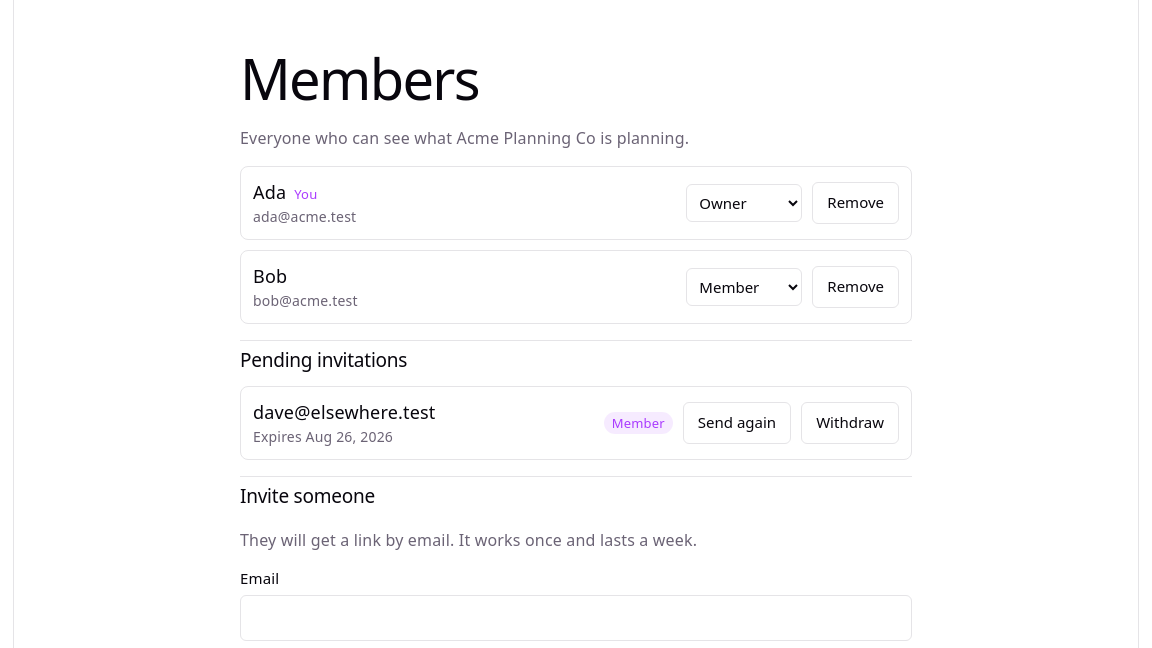
Test: MembersPage › lets the question be answered no
Expected: the text "Ada" is shown, [253,180,286,204]
Click the button with aria-label "Remove Bob" at (856, 287), box [812,266,899,308]
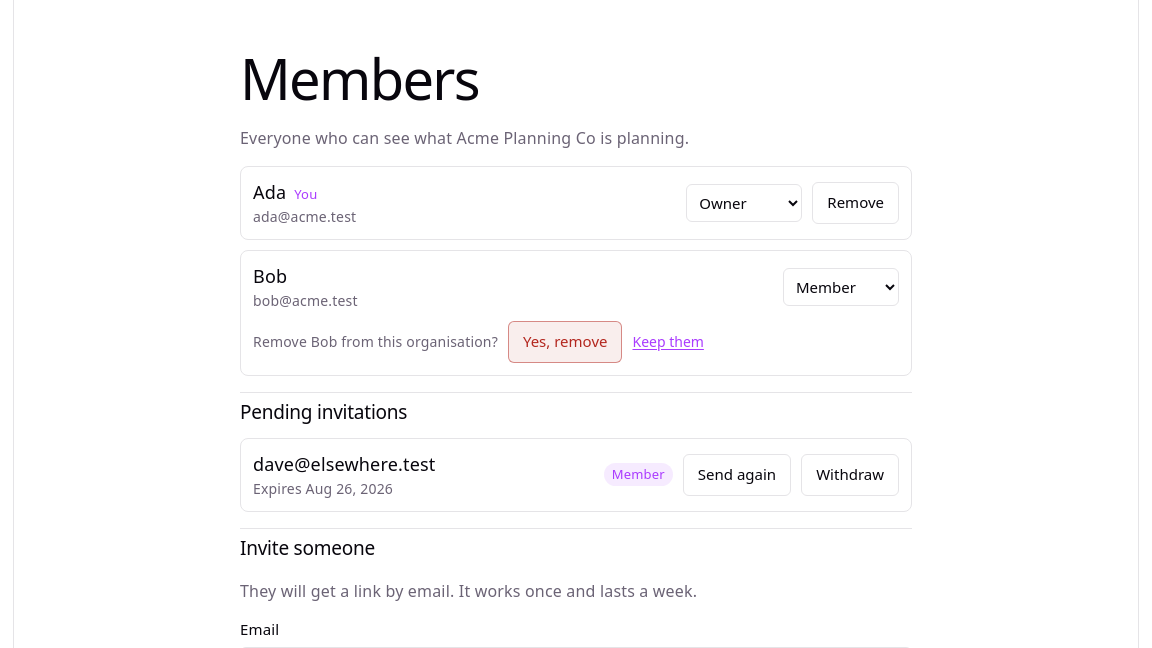
Click the button "Keep them" at (668, 342), box [632,323,704,361]
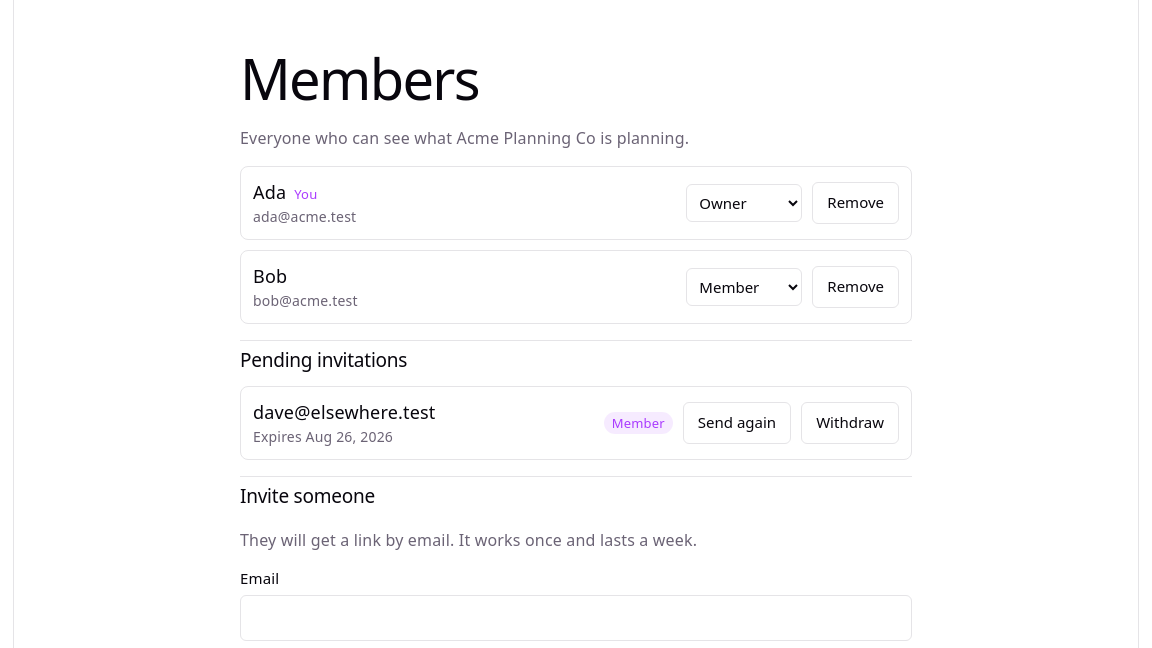
Now the text "Remove Bob from this organisation?" is gone
